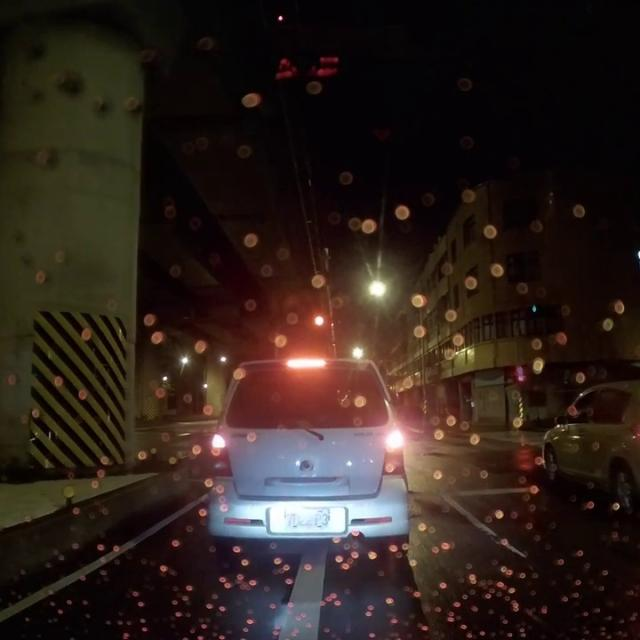Car: (202, 354, 410, 561), (537, 378, 639, 512)
